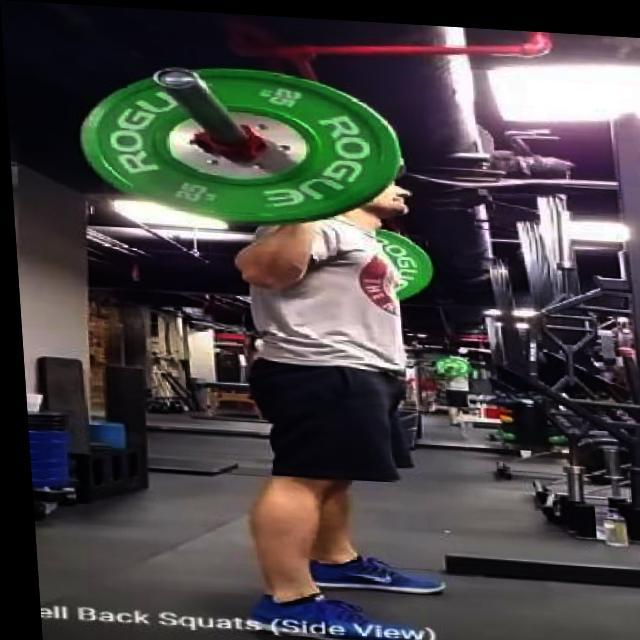barbell: (52, 45, 408, 232)
